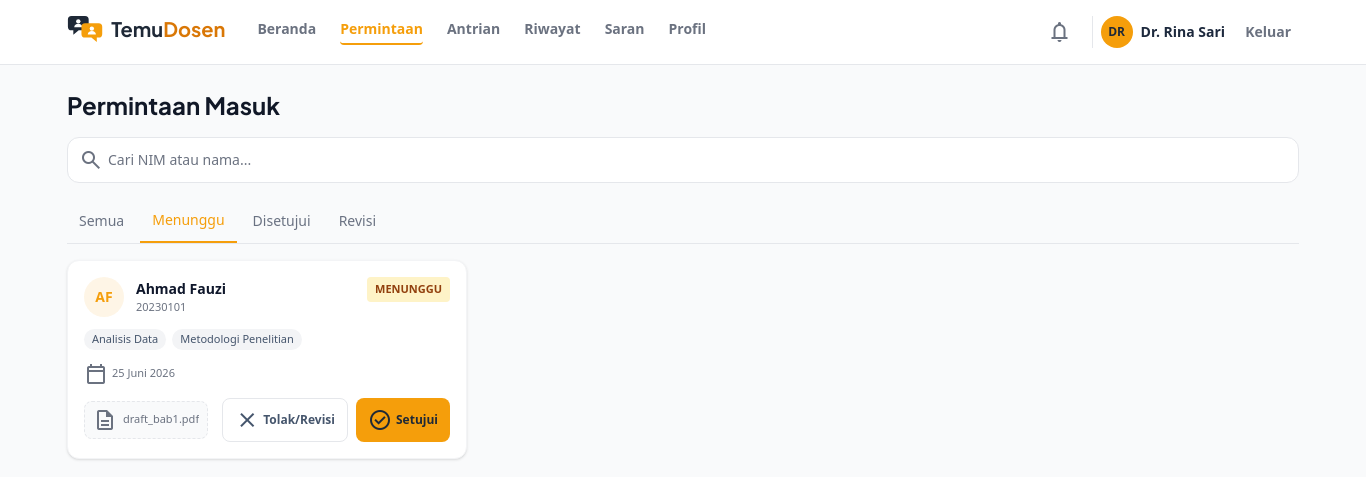
LecturerRequests › renders submission cards with NIM, symptom labels, and status badge
Expected: the heading "Ahmad Fauzi" is shown, [136,279,226,299]
Expected: the text "20230101" is shown, [136,299,186,314]
# Switch to "Semua" to see the revision submission too.
Step 1. Click the tab "Semua" → (102, 221), box [67,199,136,243]
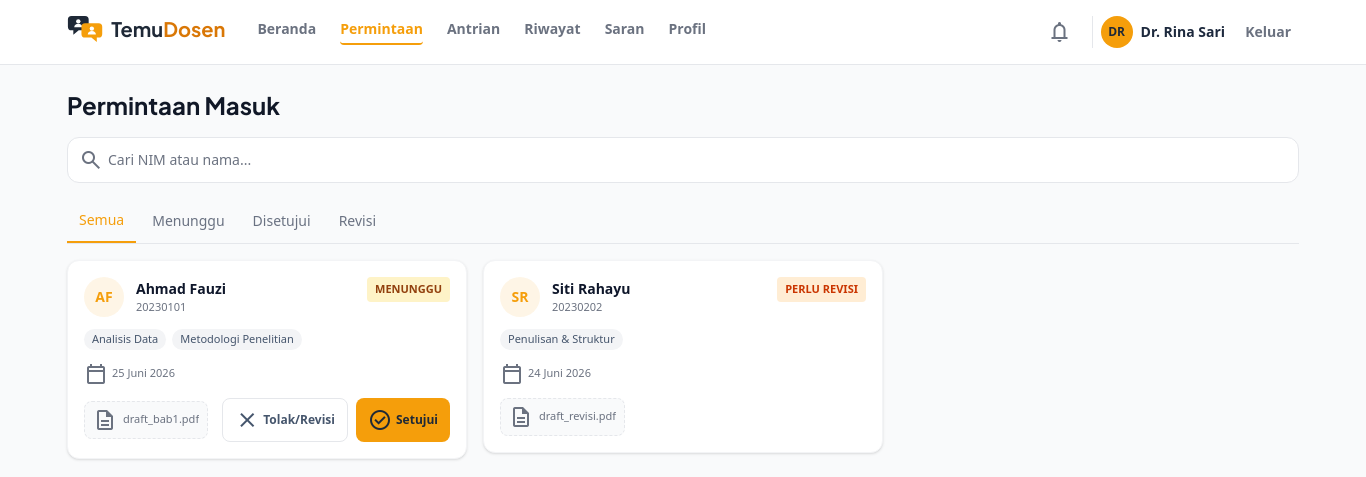
Expected: the heading "Siti Rahayu" is shown, [552,279,630,299]
Expected: the text "20230202" is shown, [552,299,602,314]
Expected: the text "Penulisan & Struktur" is shown, [500,329,623,350]
